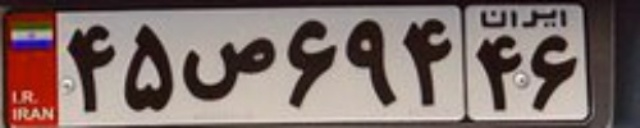4: (63, 24, 115, 111), (402, 18, 453, 106), (472, 33, 524, 110)
5: (121, 23, 173, 112)
6: (282, 18, 337, 108), (530, 33, 580, 111)
9: (344, 18, 396, 105)
saat: (180, 35, 276, 101)
